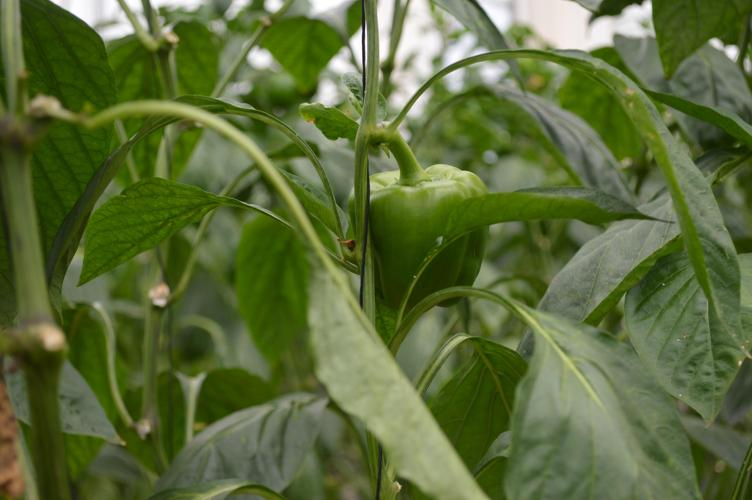BellPepper: (343, 156, 504, 320)
